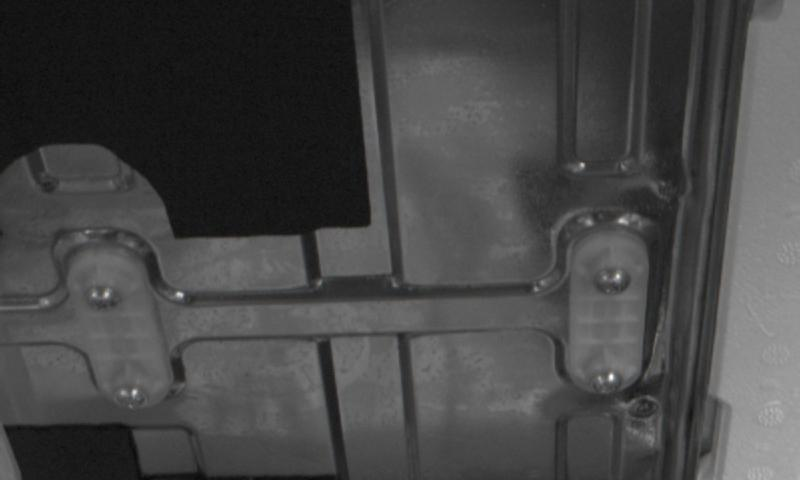vida-ok: (592, 259, 638, 303), (78, 275, 124, 319), (586, 363, 632, 402), (110, 374, 155, 413)
